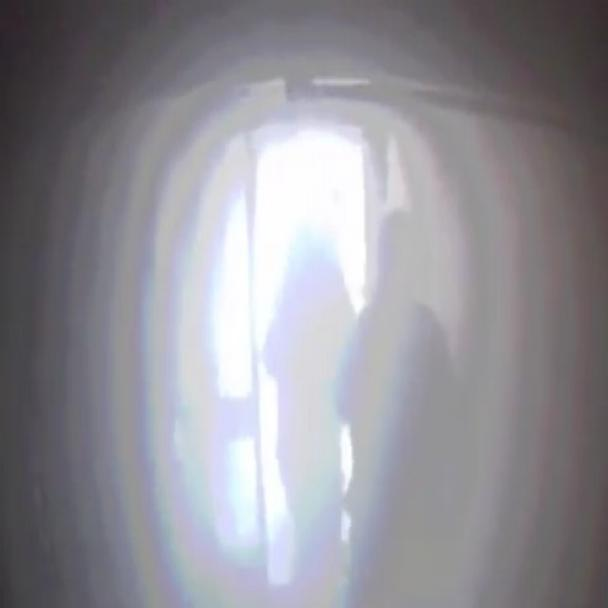smoke: (59, 16, 564, 608)
